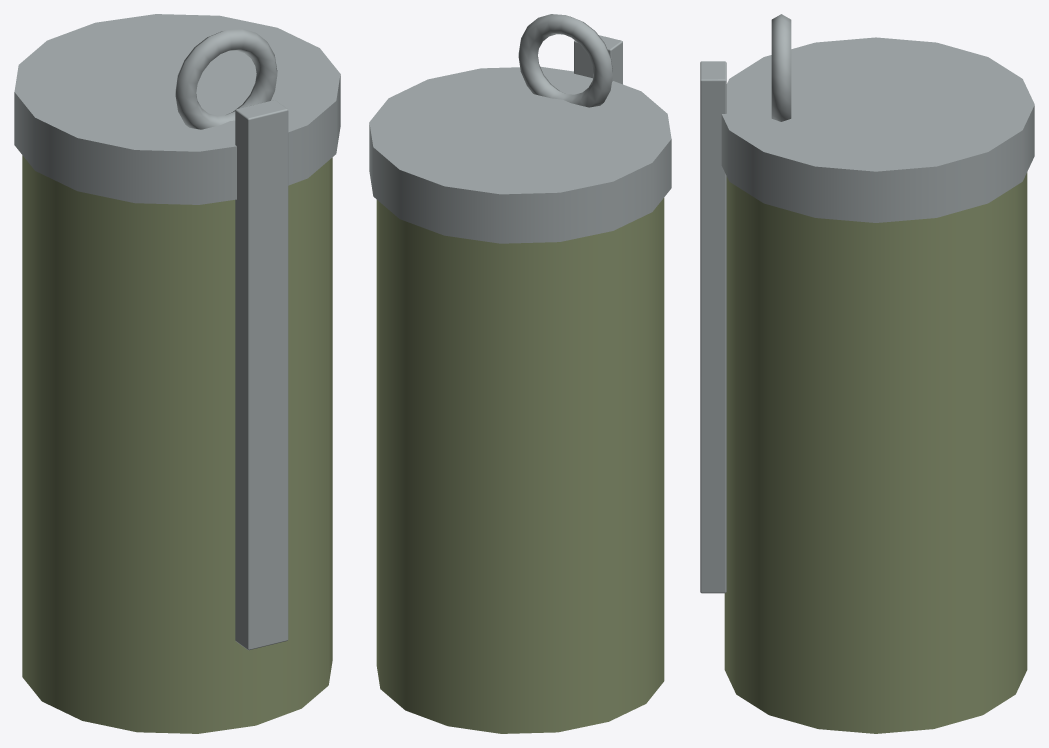
File: extraction-routes-and-objectives-smoke-canister-0a5bfce2__22131.glb
The picture shows the model from 3 angles, left to right: view 1: azimuth 30°, elevation 25°; view 2: azimuth 150°, elevation 25°; view 3: azimuth 270°, elevation 25°; orthographic projection. The views are drawn at different scales.
Visible parts, largest first — view 1: smoke-canister, lever/metal; view 2: smoke-canister, lever/metal; view 3: smoke-canister, lever/metal.
Boxes of the visible parts, x1=… form: smoke-canister: x1=14, y1=14, x2=340, y2=733; lever/metal: x1=235, y1=100, x2=288, y2=650; smoke-canister: x1=369, y1=14, x2=671, y2=733; lever/metal: x1=574, y1=35, x2=622, y2=84; smoke-canister: x1=721, y1=14, x2=1034, y2=733; lever/metal: x1=700, y1=61, x2=726, y2=593.
Bounding box in the file's own units: 0.084 × 0.19 × 0.0885.
